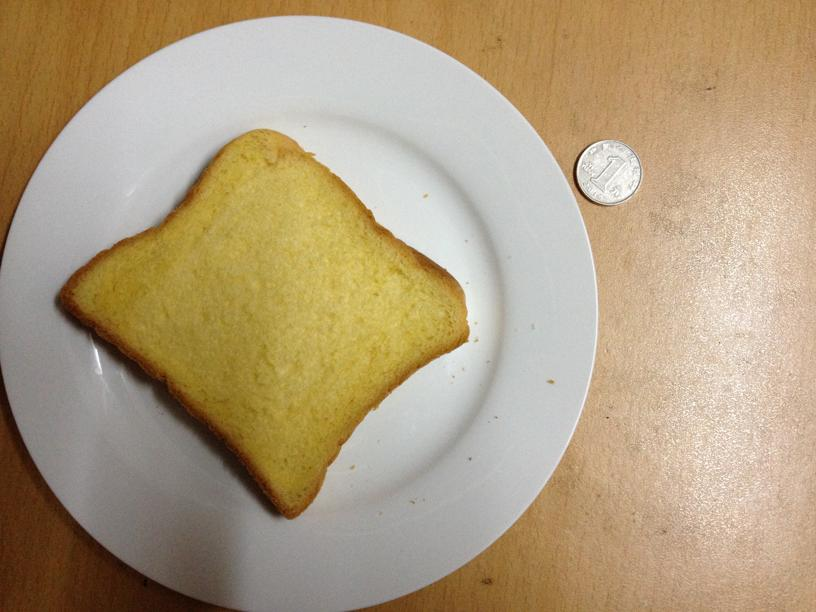bread: (57, 129, 467, 519)
coin: (573, 135, 642, 205)
